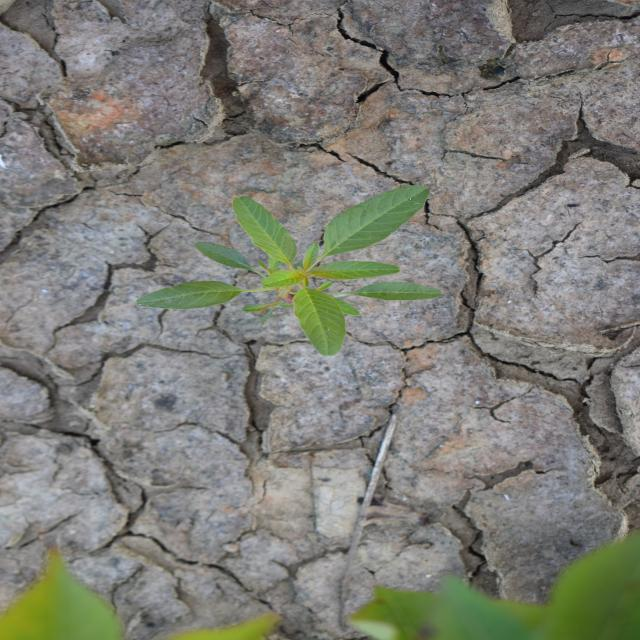Waterhemp: (135, 183, 446, 358)
